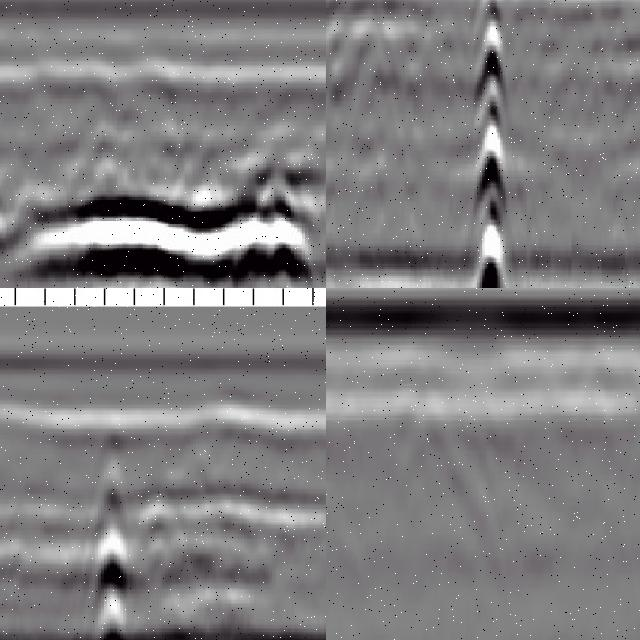crack: (474, 1, 510, 289), (90, 424, 130, 640)
loose: (1, 118, 326, 289)
